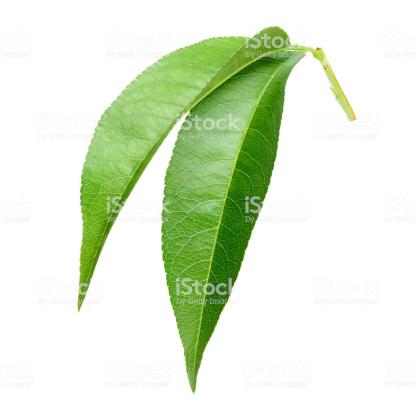Peach leaf: (76, 37, 275, 310), (161, 51, 311, 399)
